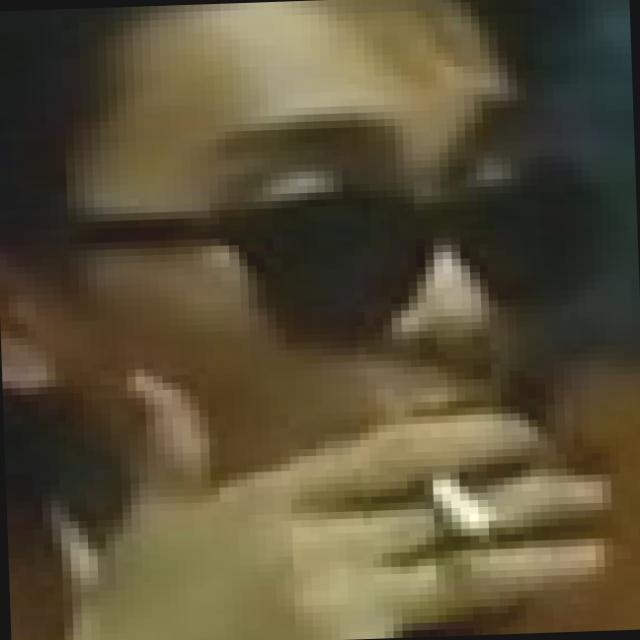smoke: (394, 456, 536, 556)
